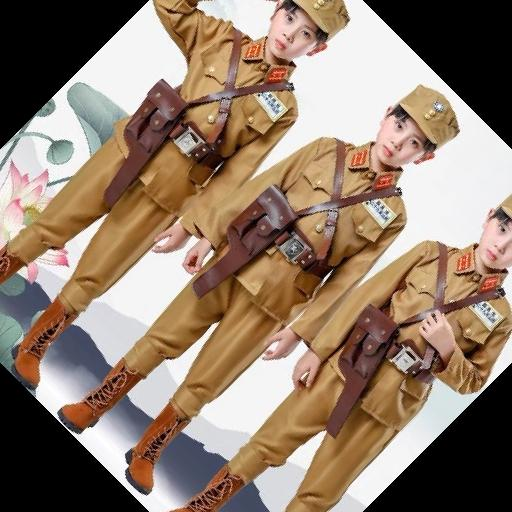north army: (115, 8, 510, 452)
